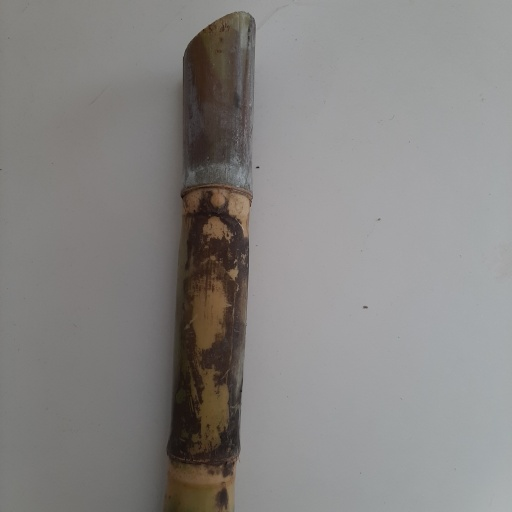Bud: (206, 188, 231, 212)
